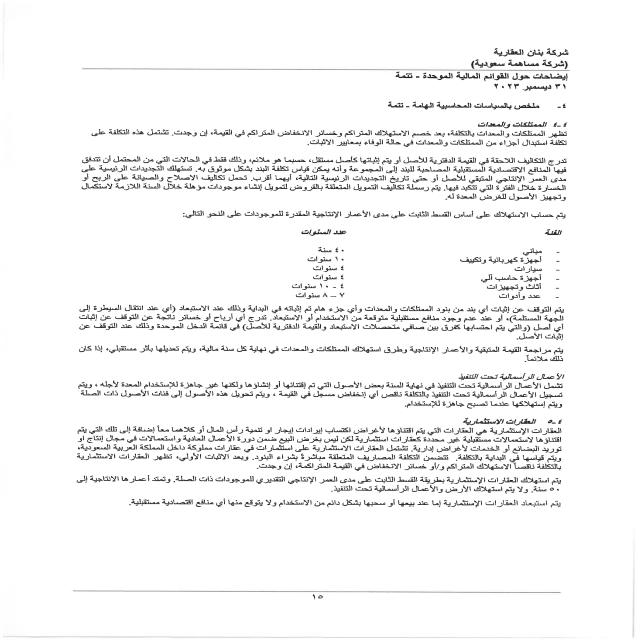notes: (394, 71, 574, 82)
text: (44, 91, 577, 523)
